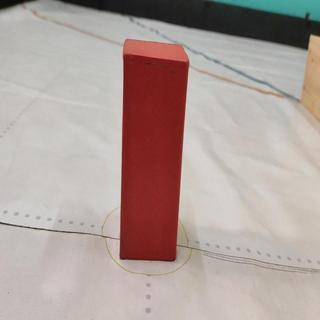redbox: (121, 39, 190, 260)
